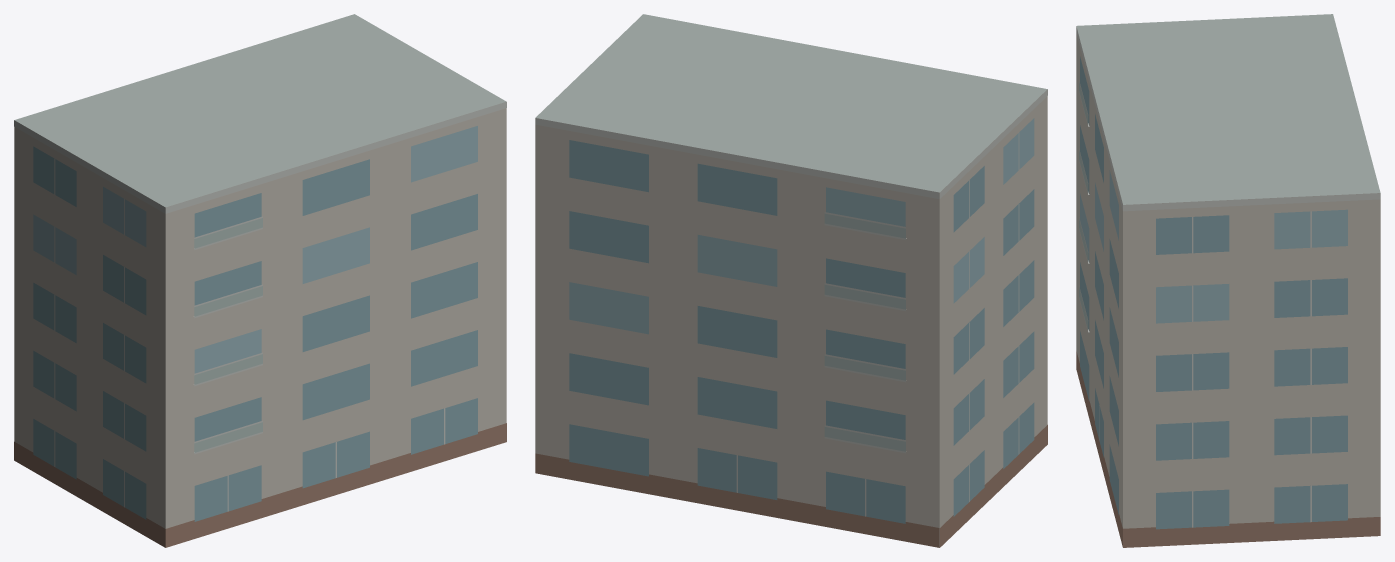
The model's file is survey-upis-32948230.glb.
3 renders of one model, left to right at view 1: azimuth 30°, elevation 25°; view 2: azimuth 150°, elevation 25°; view 3: azimuth 270°, elevation 25°, orthographic. The views are drawn at different scales.
Parts seen in each view (by area): view 1: survey-upis-32948230.tmp; view 2: survey-upis-32948230.tmp; view 3: survey-upis-32948230.tmp.
Boxes of the visible parts, box(x1,y1,x2,y2) form: survey-upis-32948230.tmp: box(14, 14, 506, 547); survey-upis-32948230.tmp: box(535, 14, 1047, 547); survey-upis-32948230.tmp: box(1076, 14, 1380, 547).
Bounding box in the file's own units: 15.47 × 12.95 × 10.42.
